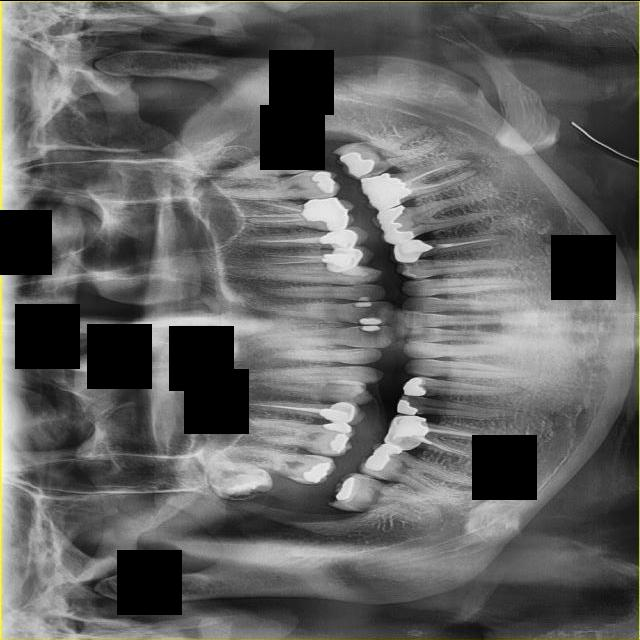71: (411, 432, 434, 446)
74: (404, 159, 461, 186), (248, 402, 321, 413), (434, 237, 496, 248), (411, 177, 461, 190), (256, 199, 302, 213), (430, 441, 470, 457), (428, 427, 489, 437), (255, 236, 321, 245), (266, 254, 324, 264), (238, 210, 301, 218), (257, 216, 305, 223)
NucleOSS Implant: (358, 162, 416, 215), (299, 194, 351, 233), (361, 434, 403, 476), (375, 203, 415, 247), (361, 436, 404, 476), (335, 145, 377, 182), (302, 458, 335, 485), (392, 415, 428, 437), (334, 474, 359, 503), (335, 473, 359, 502), (320, 229, 352, 248), (328, 429, 352, 454), (321, 253, 358, 268), (394, 397, 420, 418), (318, 406, 350, 423), (311, 170, 335, 192), (402, 376, 426, 397), (401, 239, 433, 253), (323, 421, 352, 432)
Sterngold Implant: (360, 327, 384, 337), (402, 258, 421, 270), (359, 313, 381, 320), (349, 345, 365, 353), (423, 388, 439, 396), (406, 395, 423, 400)
Straumann Implant: (339, 265, 369, 276), (359, 317, 381, 324), (361, 325, 381, 330), (353, 301, 373, 306), (357, 295, 371, 301)
Zimmer Implant: (383, 407, 431, 455), (323, 242, 376, 273), (327, 221, 371, 252), (328, 399, 366, 426), (389, 239, 425, 263)
